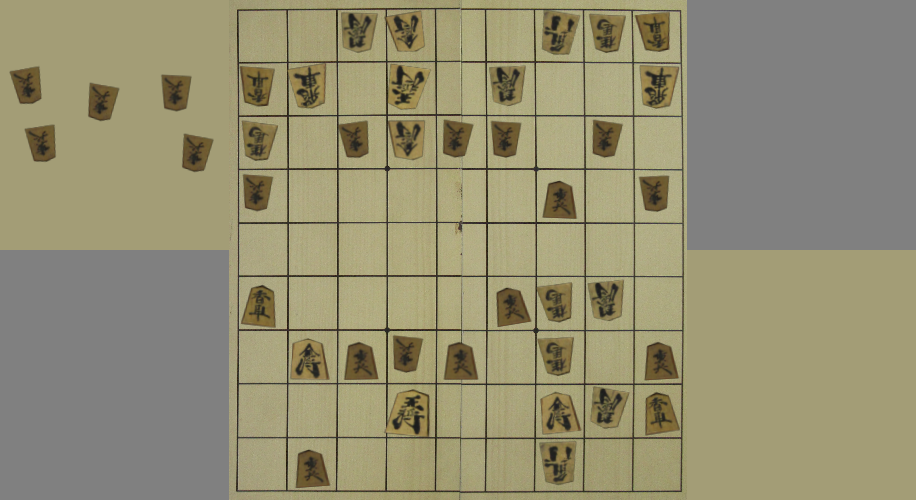A: (386, 390, 430, 436), (541, 393, 580, 434), (292, 340, 328, 379), (646, 393, 679, 435), (242, 286, 274, 327), (345, 343, 379, 379), (444, 344, 477, 380), (645, 343, 678, 379), (544, 182, 576, 219), (497, 289, 529, 326), (297, 451, 329, 486)
B: (390, 65, 429, 109), (641, 67, 678, 108), (543, 12, 578, 54), (290, 65, 324, 108), (592, 388, 628, 428), (387, 12, 423, 51), (589, 280, 623, 320), (490, 67, 525, 105), (342, 13, 376, 52), (538, 283, 572, 322), (541, 444, 574, 484), (244, 122, 277, 160), (539, 339, 573, 375), (591, 15, 624, 52), (391, 121, 423, 159), (242, 67, 273, 106), (637, 15, 669, 51), (394, 336, 422, 372), (594, 121, 622, 157), (244, 176, 272, 211), (340, 122, 368, 157), (444, 121, 472, 156), (640, 176, 668, 211), (493, 122, 520, 157)
D: (25, 125, 56, 162), (11, 67, 41, 103), (89, 84, 118, 120), (183, 135, 212, 171), (162, 75, 190, 109)
